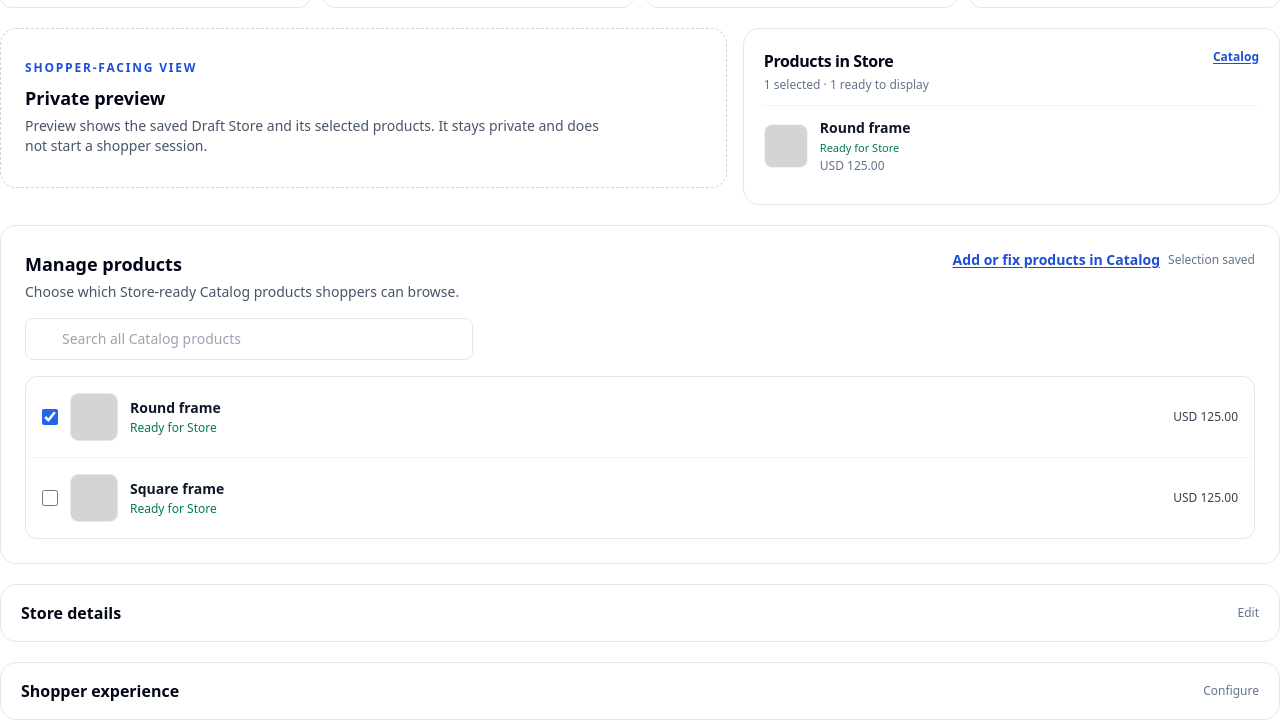
Test: MerchantStoreWorkspace lifecycle UX › saves Journey and delivery settings through the existing Store Experience PATCH without publishing
(page scrolled)
Click the text "Shopper experience".
click(100, 691)  # box [21,679,179,703]
(page scrolled)
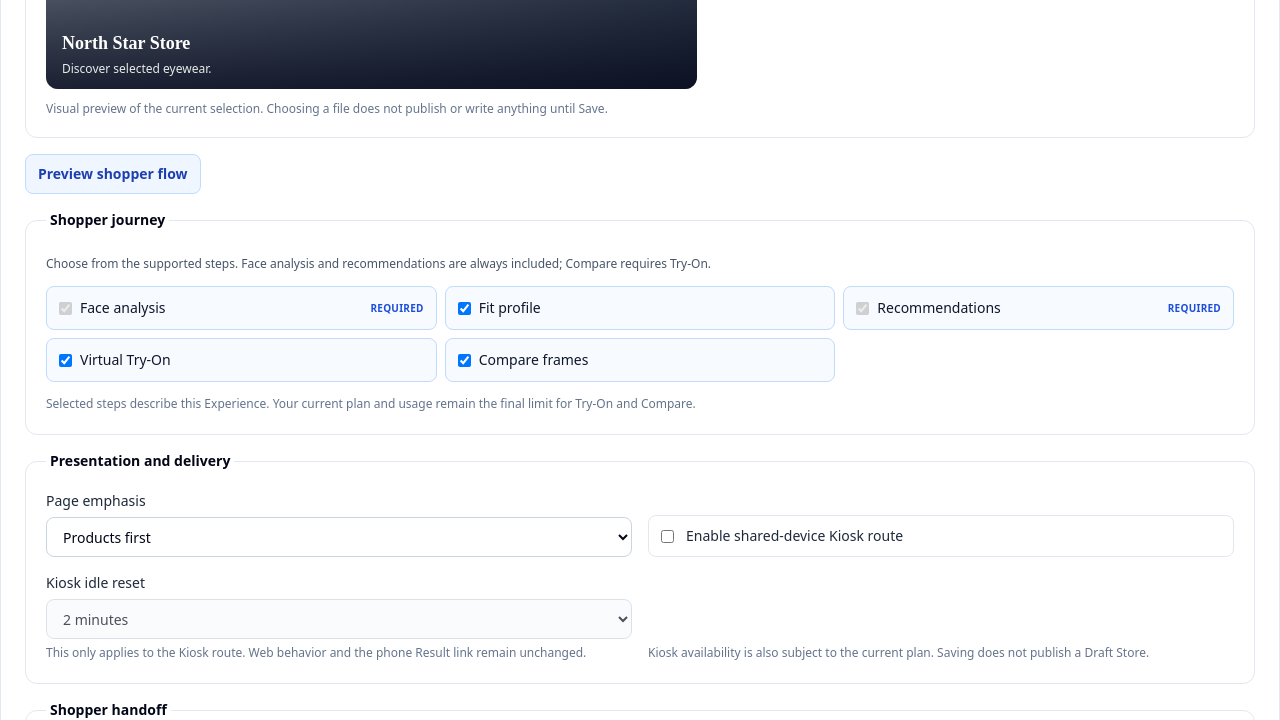
Click the checkbox labelled "Virtual Try-On".
click(66, 360)  # box [59,354,72,367]
(page scrolled)
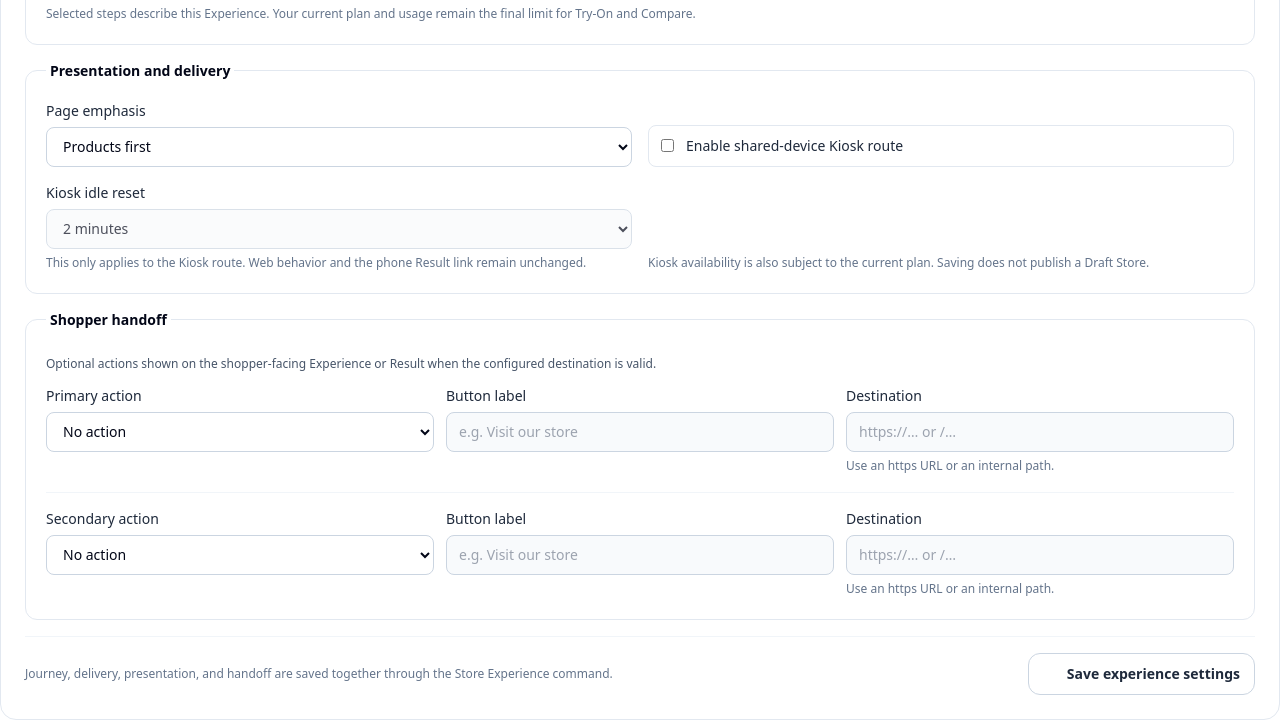
Click the button "Save experience settings".
click(1141, 674)  # box [1028,653,1255,695]
(page scrolled)
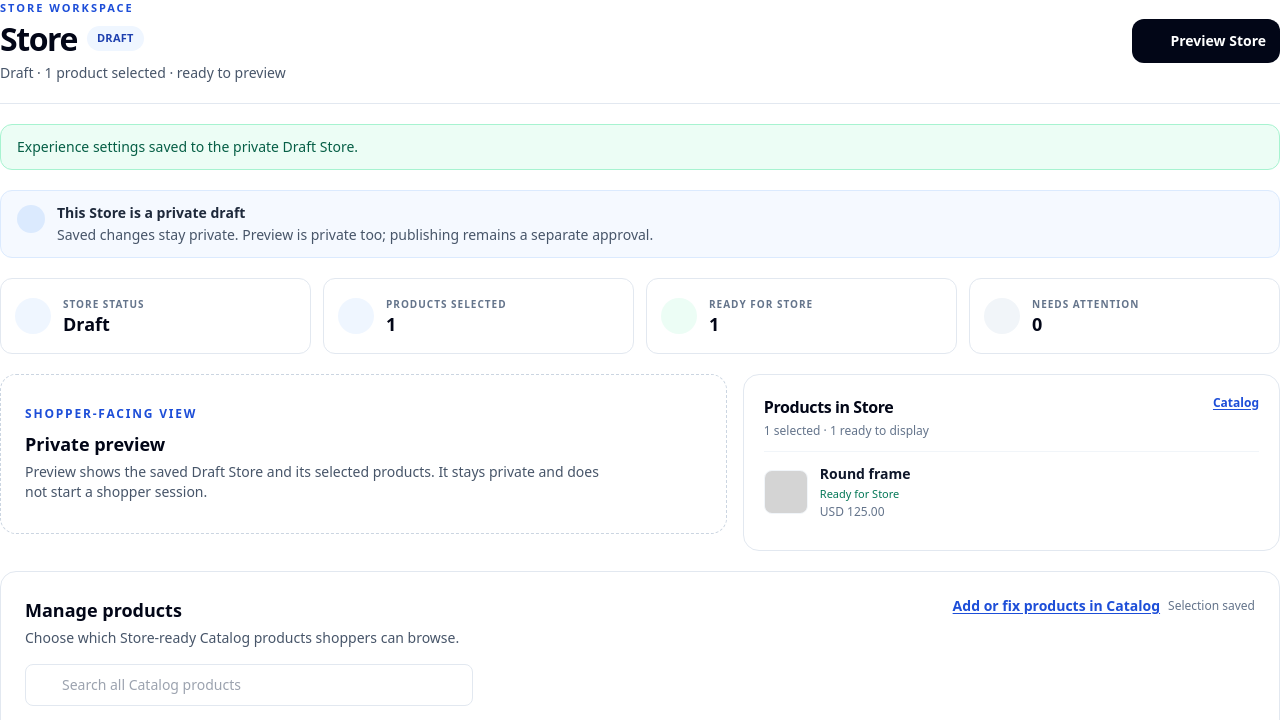
Check: the text "Experience settings saved to the private Draft Store." is shown, box [0,124,1279,170]
